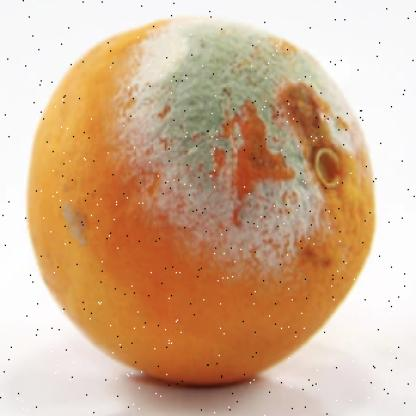rotten: (25, 16, 372, 386)
